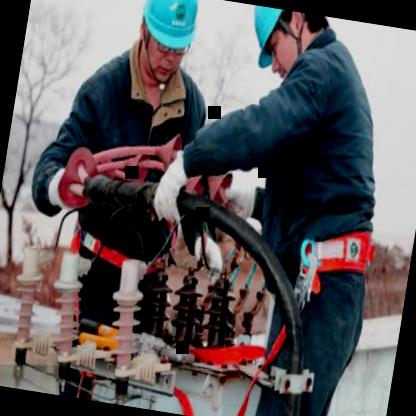helmet: (125, 0, 205, 97), (238, 3, 335, 80)
